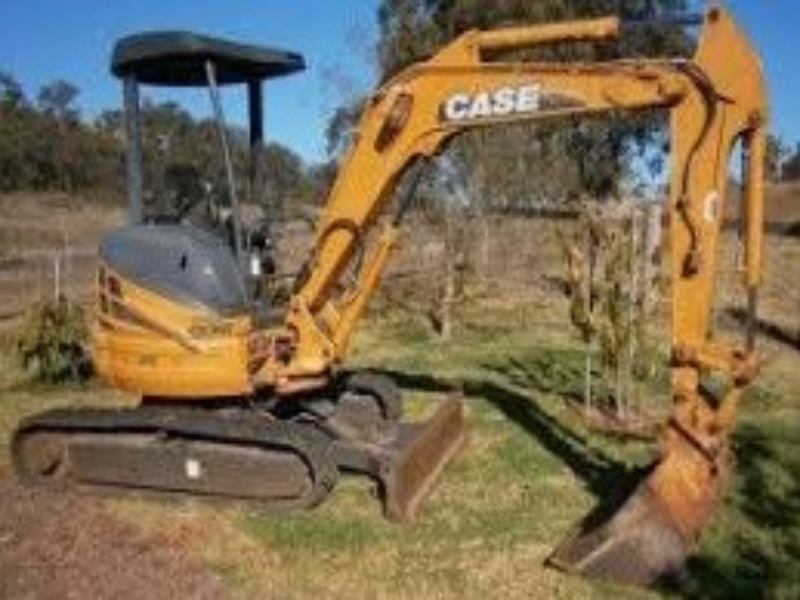wajueji: (6, 27, 531, 548)
